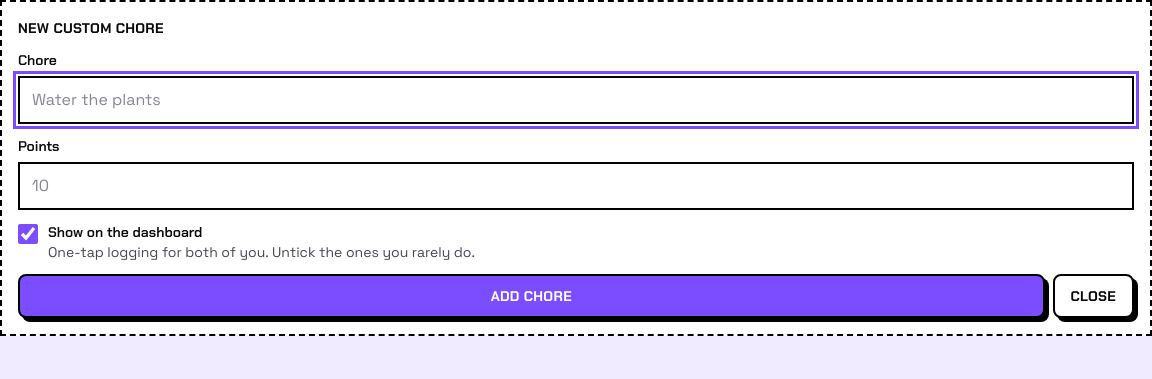
Test case: client-side validation stops the unpresentable payloads › sends nothing for points 2.5
Type "Valid title" into the field labelled "Chore" at (576, 100), box [18, 76, 1134, 124]
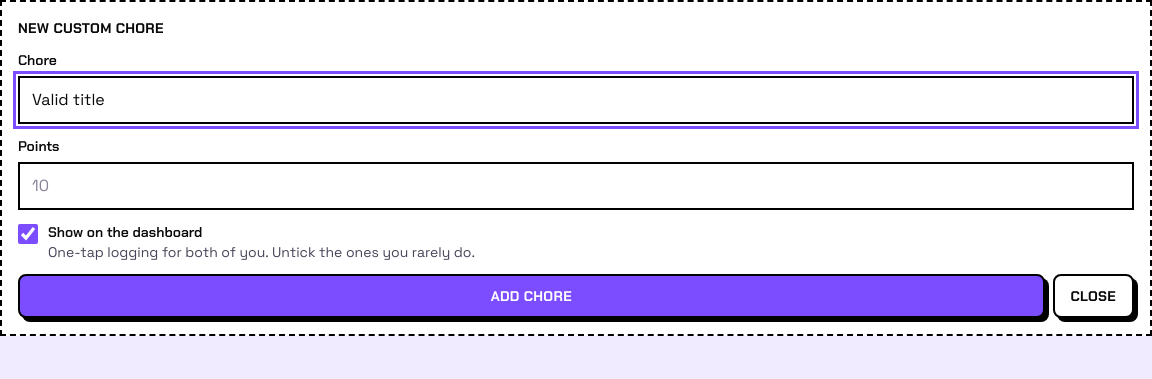
Type "2.5" into the number field labelled "Points" at (576, 186), box [18, 162, 1134, 210]
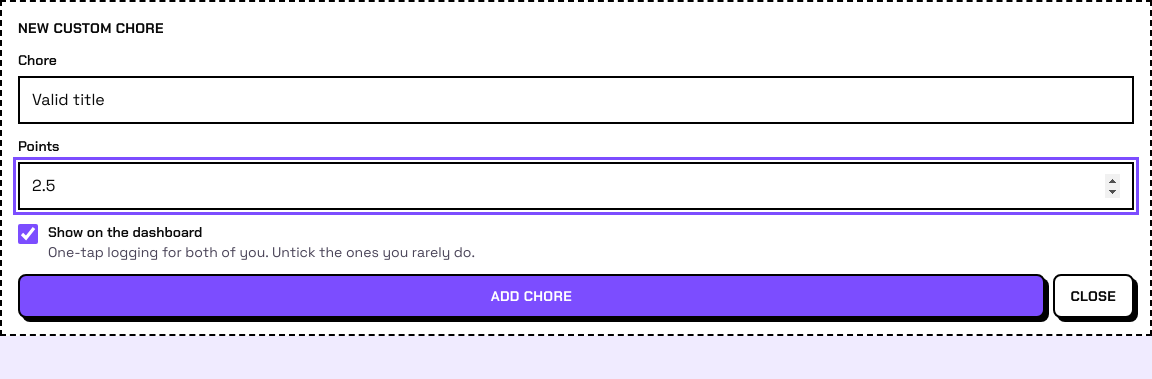
Click the button "Add chore" at (531, 296), box [18, 274, 1045, 318]
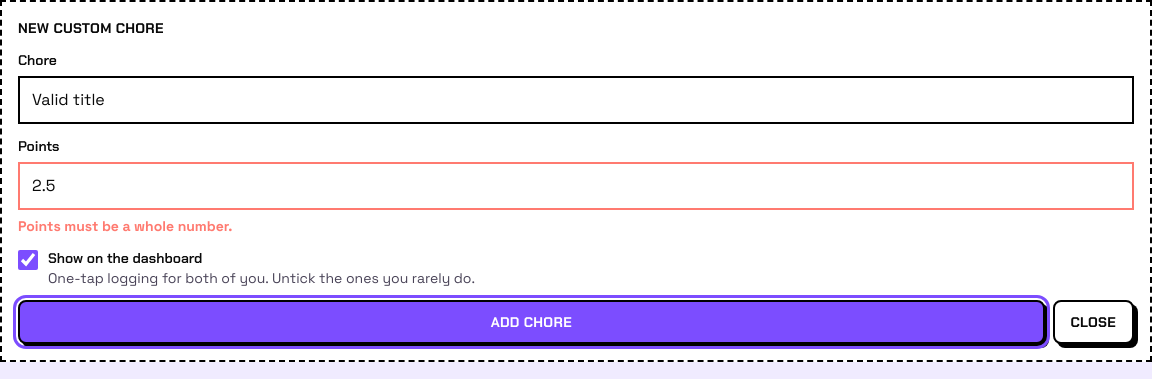
expect the text "Points must be a whole number." is shown: met, box [18, 217, 232, 235]
